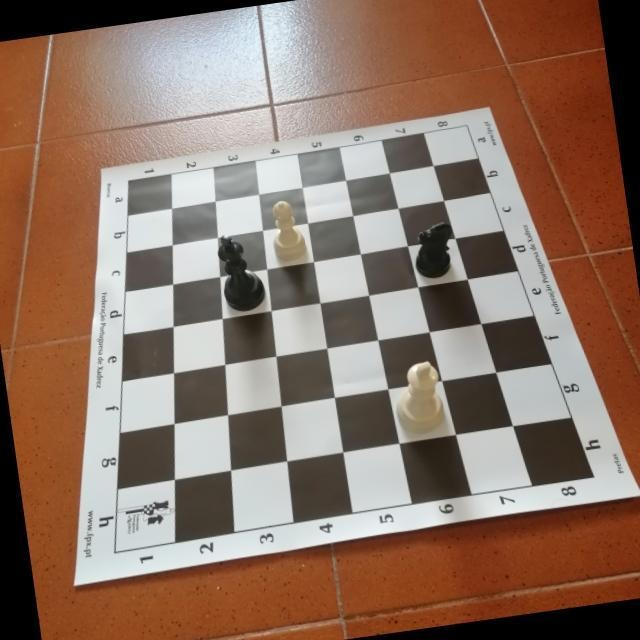black-king: (215, 230, 269, 314)
black-knight: (408, 220, 459, 282)
white-bishop: (267, 196, 309, 263)
white-king: (390, 358, 450, 438)
